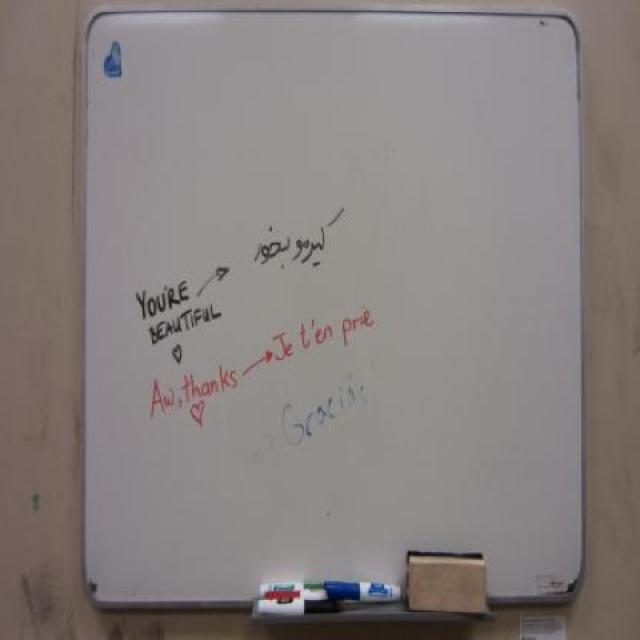White-board: (91, 11, 585, 595)
